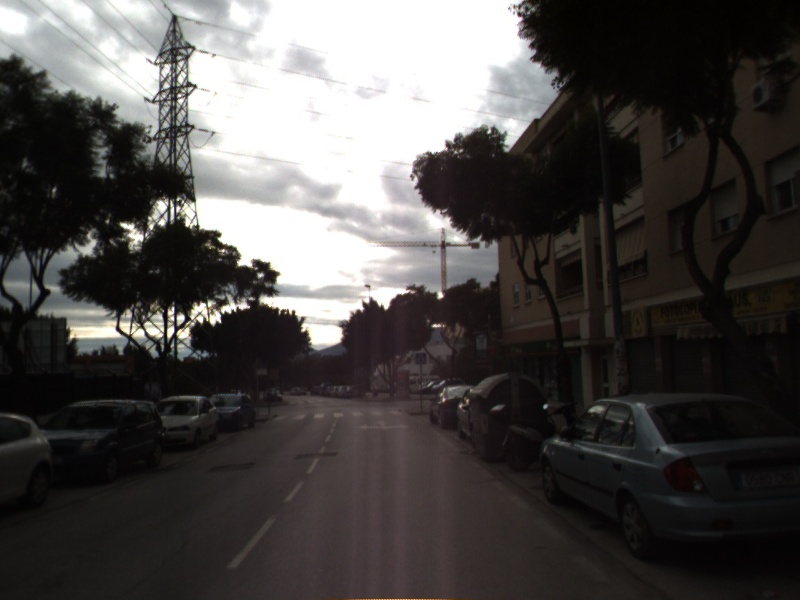STRAIGHT_LEFT_RIGHT: (356, 418, 411, 433)
